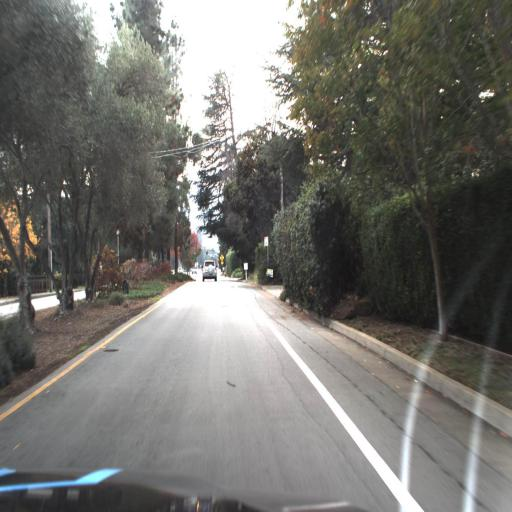car: (196, 254, 219, 282)
